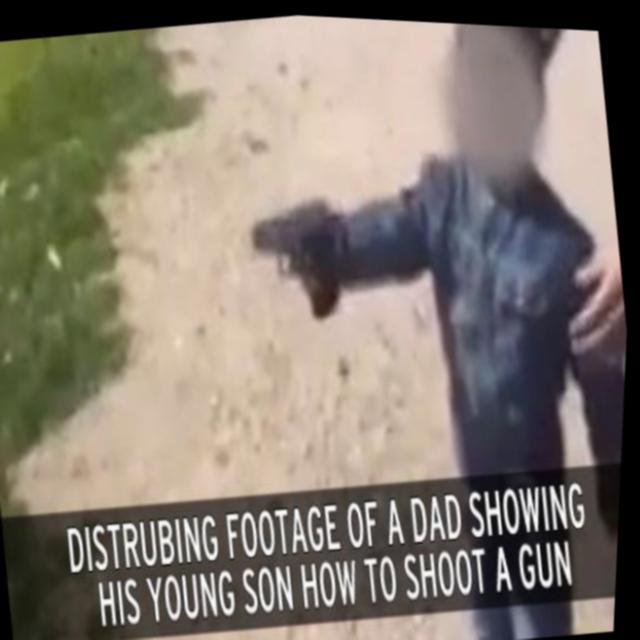weapon: (246, 188, 360, 330)
